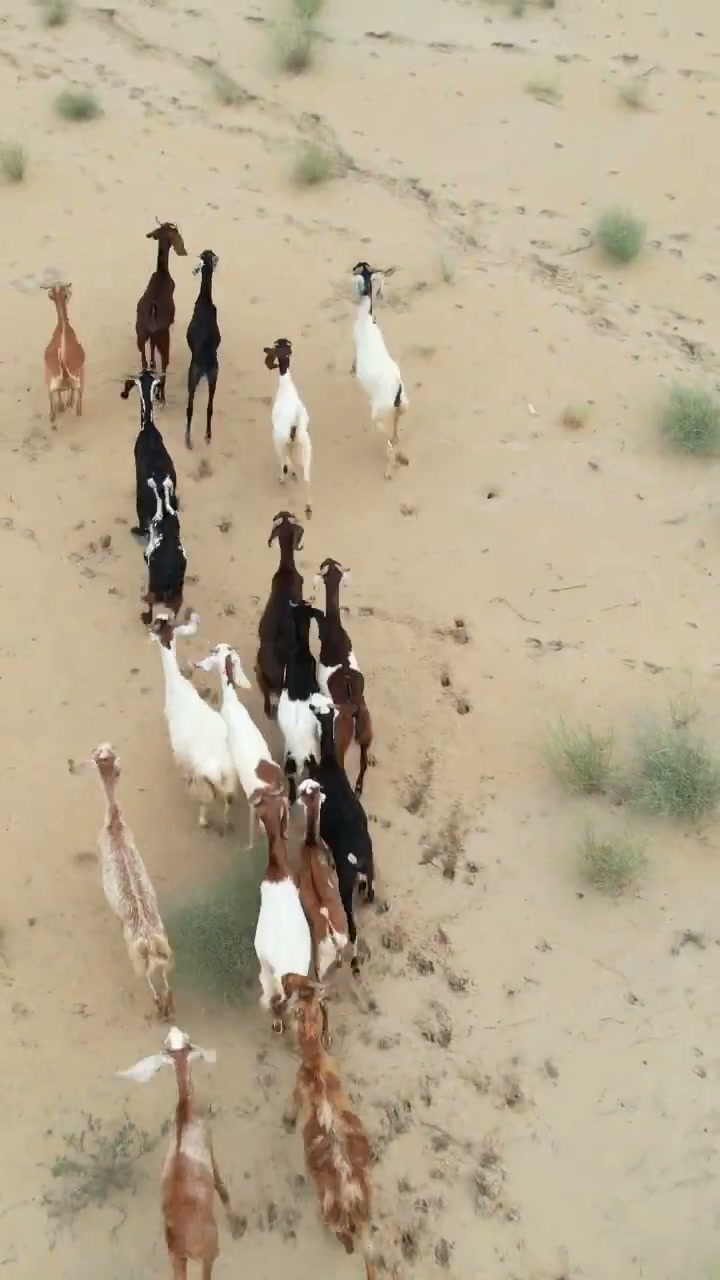animal_foot_print: (397, 801, 503, 1247), (373, 489, 500, 743)
